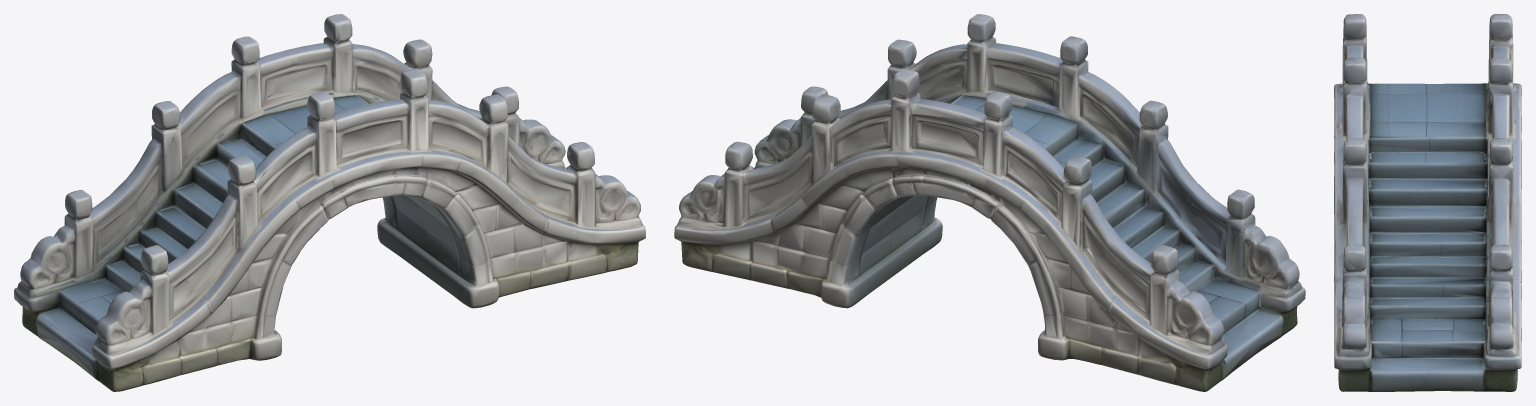
File: stoneBridge.glb
3 renders of one model, left to right at view 1: azimuth 30°, elevation 25°; view 2: azimuth 150°, elevation 25°; view 3: azimuth 270°, elevation 25°, orthographic. The views are drawn at different scales.
Visible parts, largest first — view 1: node_0; view 2: node_0; view 3: node_0.
Boxes of the visible parts, <box> form: node_0: <box>14,14,645,391</box>; node_0: <box>674,14,1305,391</box>; node_0: <box>1334,14,1521,391</box>.
Bounding box in the file's own units: 2.1 × 0.8997 × 0.6569.
1 material, 1 textured.
